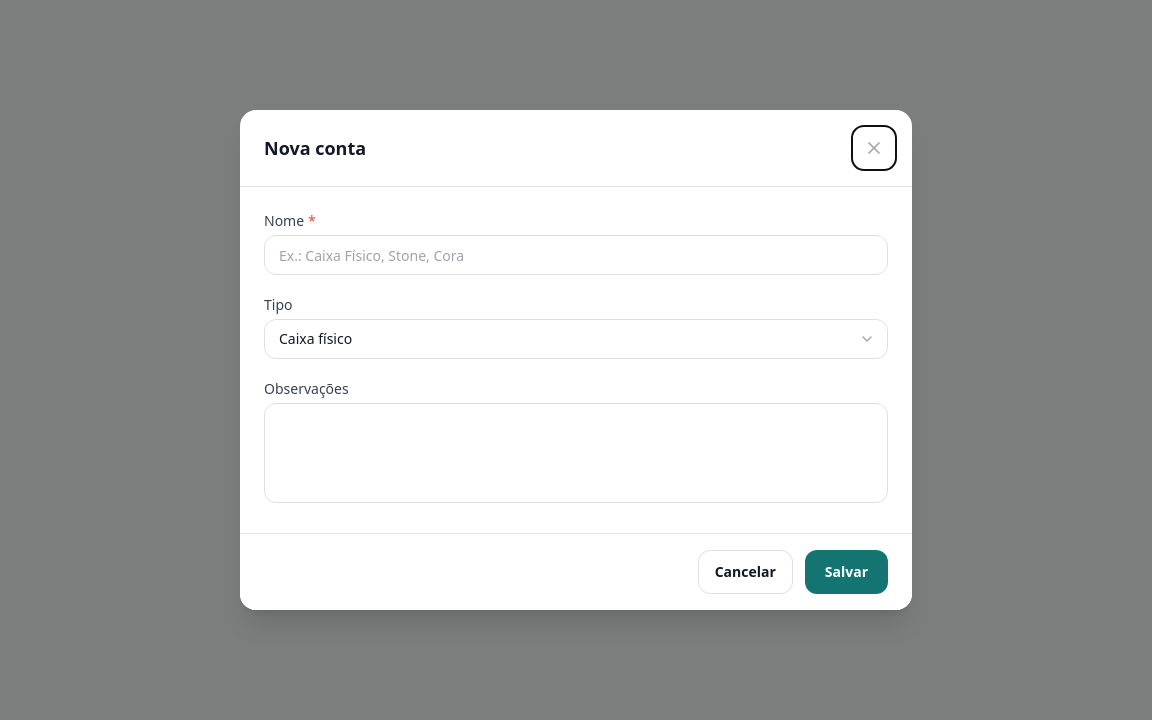
Test: FinancialAccountModal › não envia sem nome
What coordinates should you click on to do the following:
click the button "Salvar"
I would click on:
 (846, 572)
Its box is x1=805 y1=550 x2=888 y2=594.
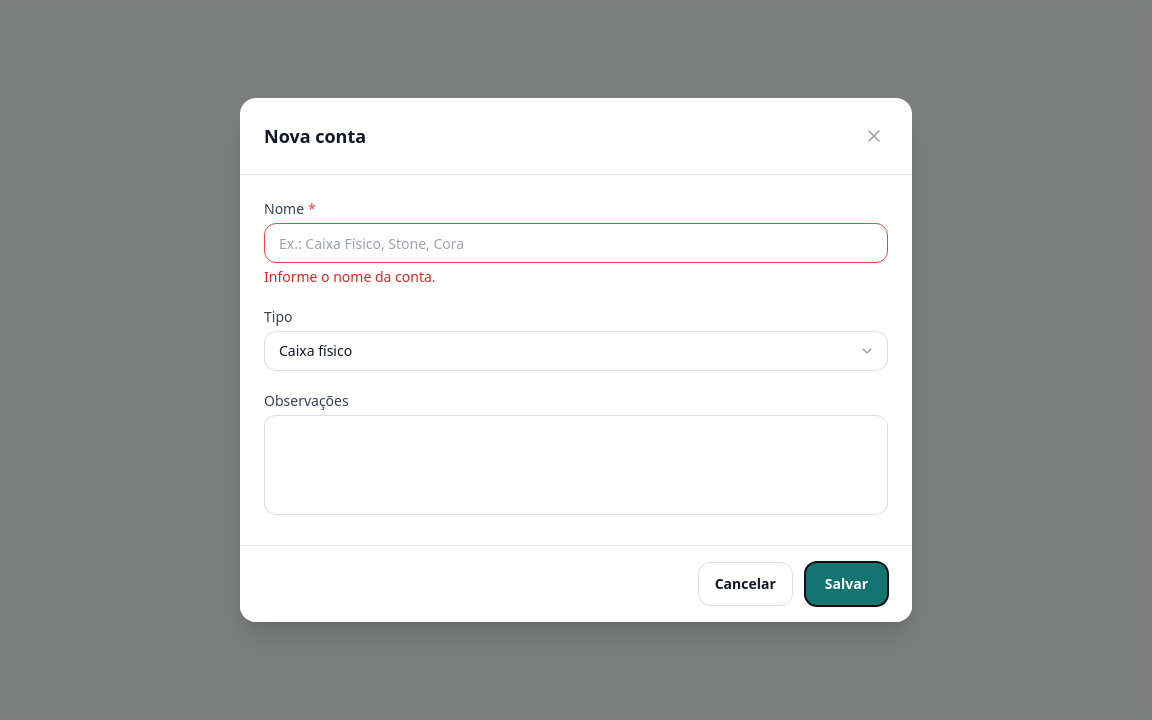
Expected: the text "Informe o nome da conta." is shown, x1=264 y1=267 x2=436 y2=286
